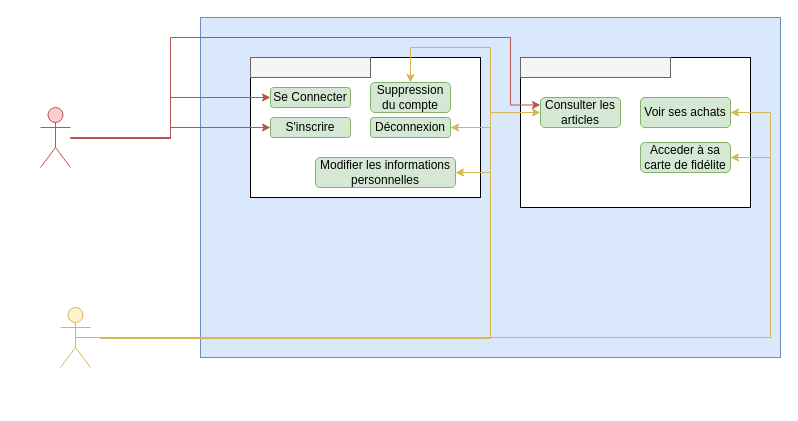
This 798x421 diagram has some shape labels left out. Each missing label, with the centre of its shape:
"Consultation Informations" belongs at point (595, 67).
"Gestion de Compte" belongs at point (310, 67).
"Utilisateur Connecté" belongs at point (75, 337).
"Utilisateur Non Connecté" belongs at point (55, 137).
